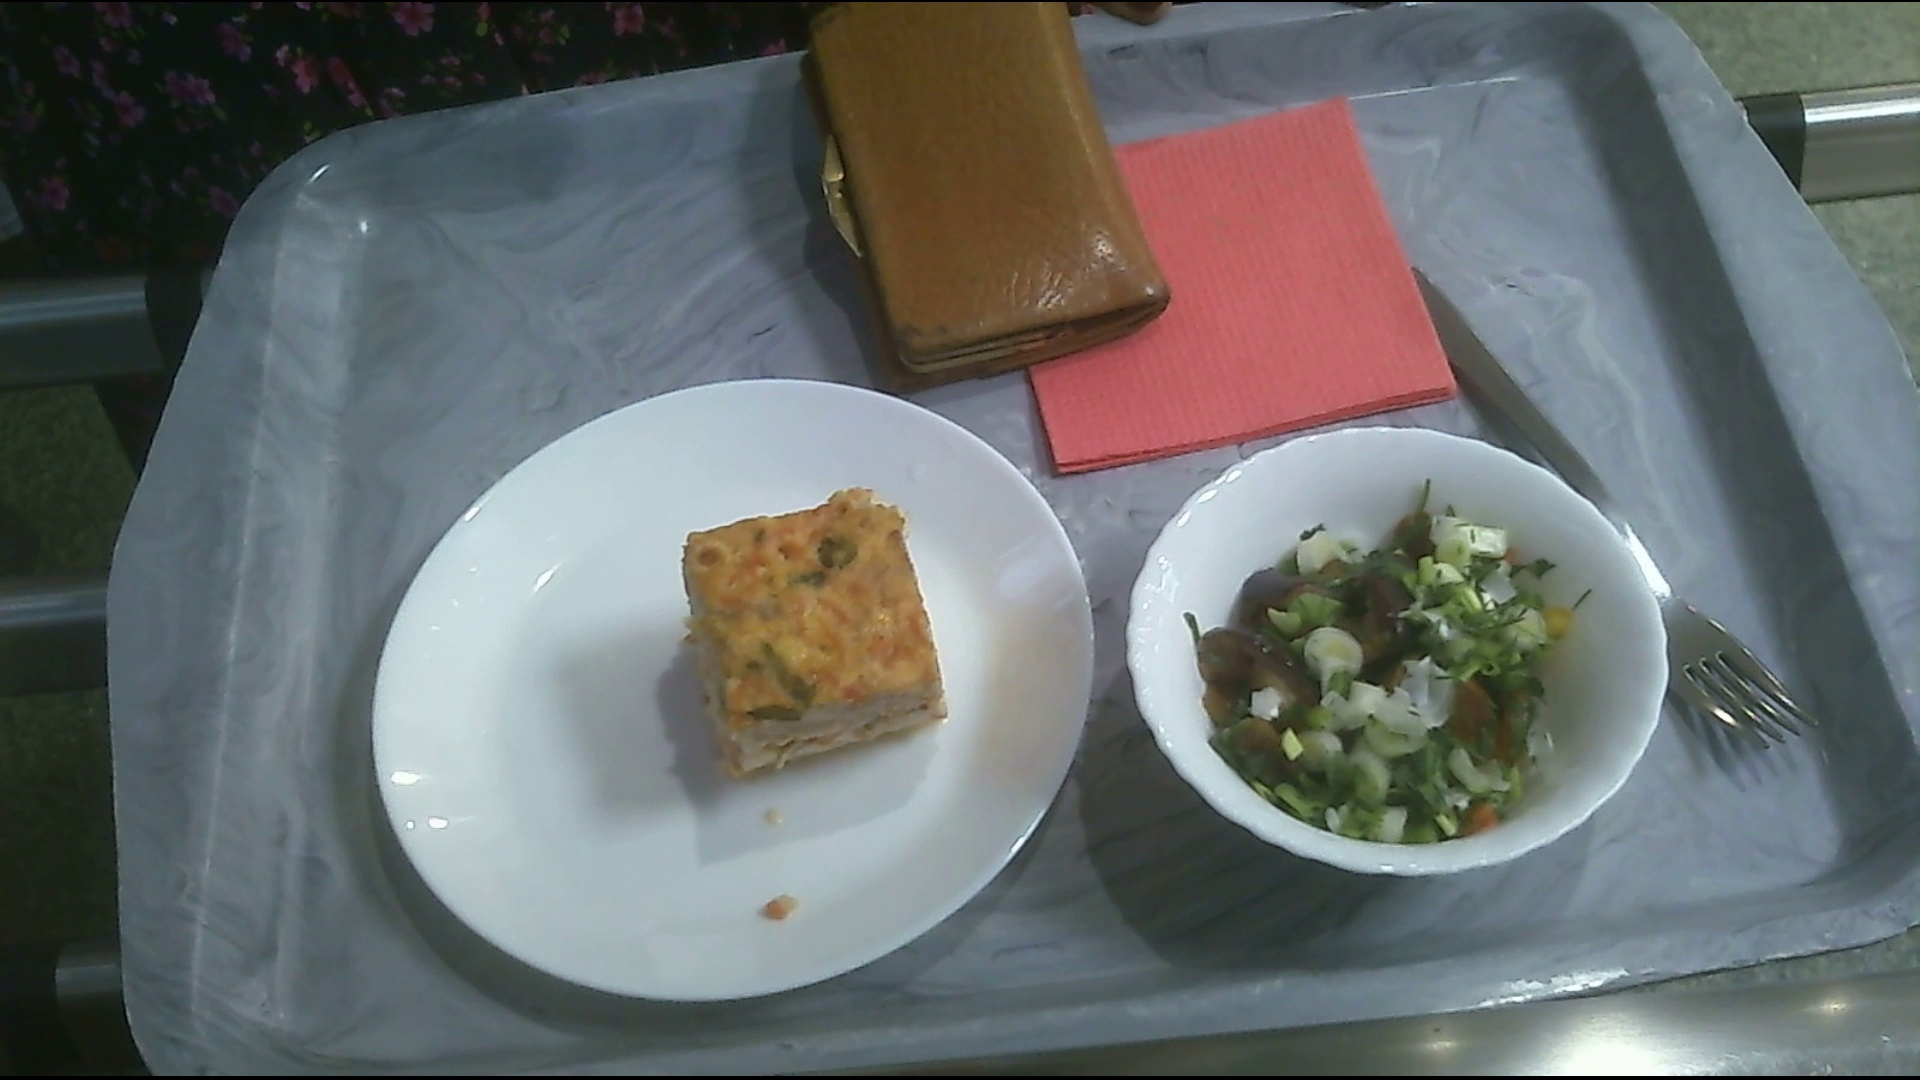bowl: (1135, 419, 1665, 885)
cutlery: (1407, 266, 1815, 756)
other: (810, 17, 1168, 367)
plate: (375, 378, 1095, 1015)
